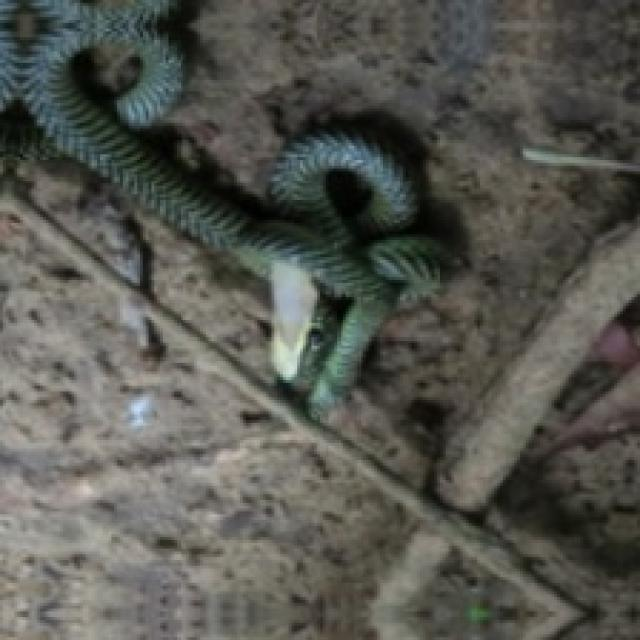paradise tree snake: (0, 0, 457, 409)
